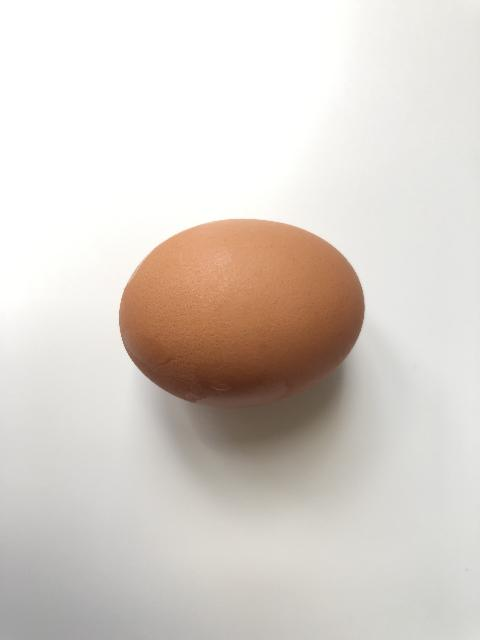Sano: (119, 217, 364, 408)
